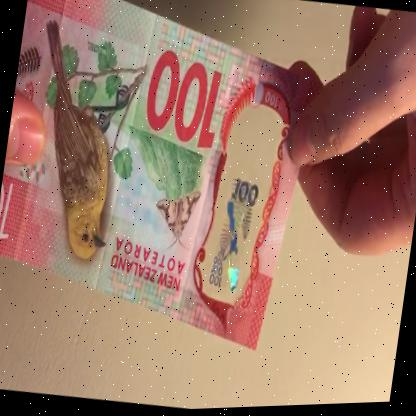100B: (205, 141, 267, 302)
